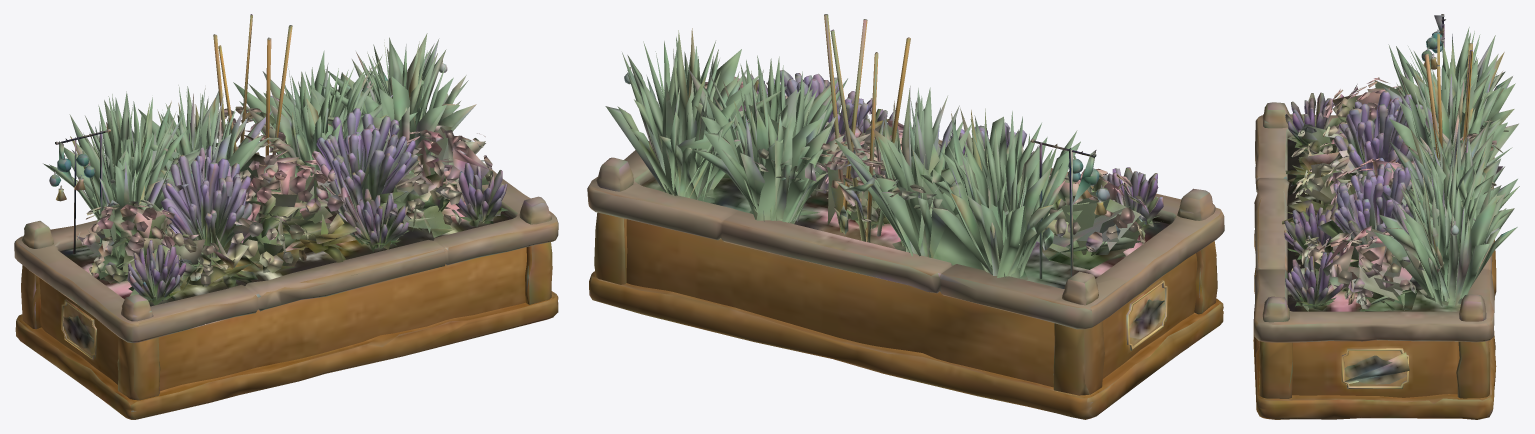
The model's file is planter_box.glb.
3 views of the same model, side by side, from view 1: azimuth 30°, elevation 25°; view 2: azimuth 150°, elevation 25°; view 3: azimuth 270°, elevation 25° (orthographic). The views are drawn at different scales.
Visible parts, largest first — view 1: prop; view 2: prop; view 3: prop.
Part boxes in pixels (<box>): prop: <box>14,14,558,419</box>; prop: <box>587,14,1224,419</box>; prop: <box>1253,14,1519,419</box>.
Bounding box in the file's own units: 1.7 × 1.02 × 0.9051.
1 material, 1 textured.
